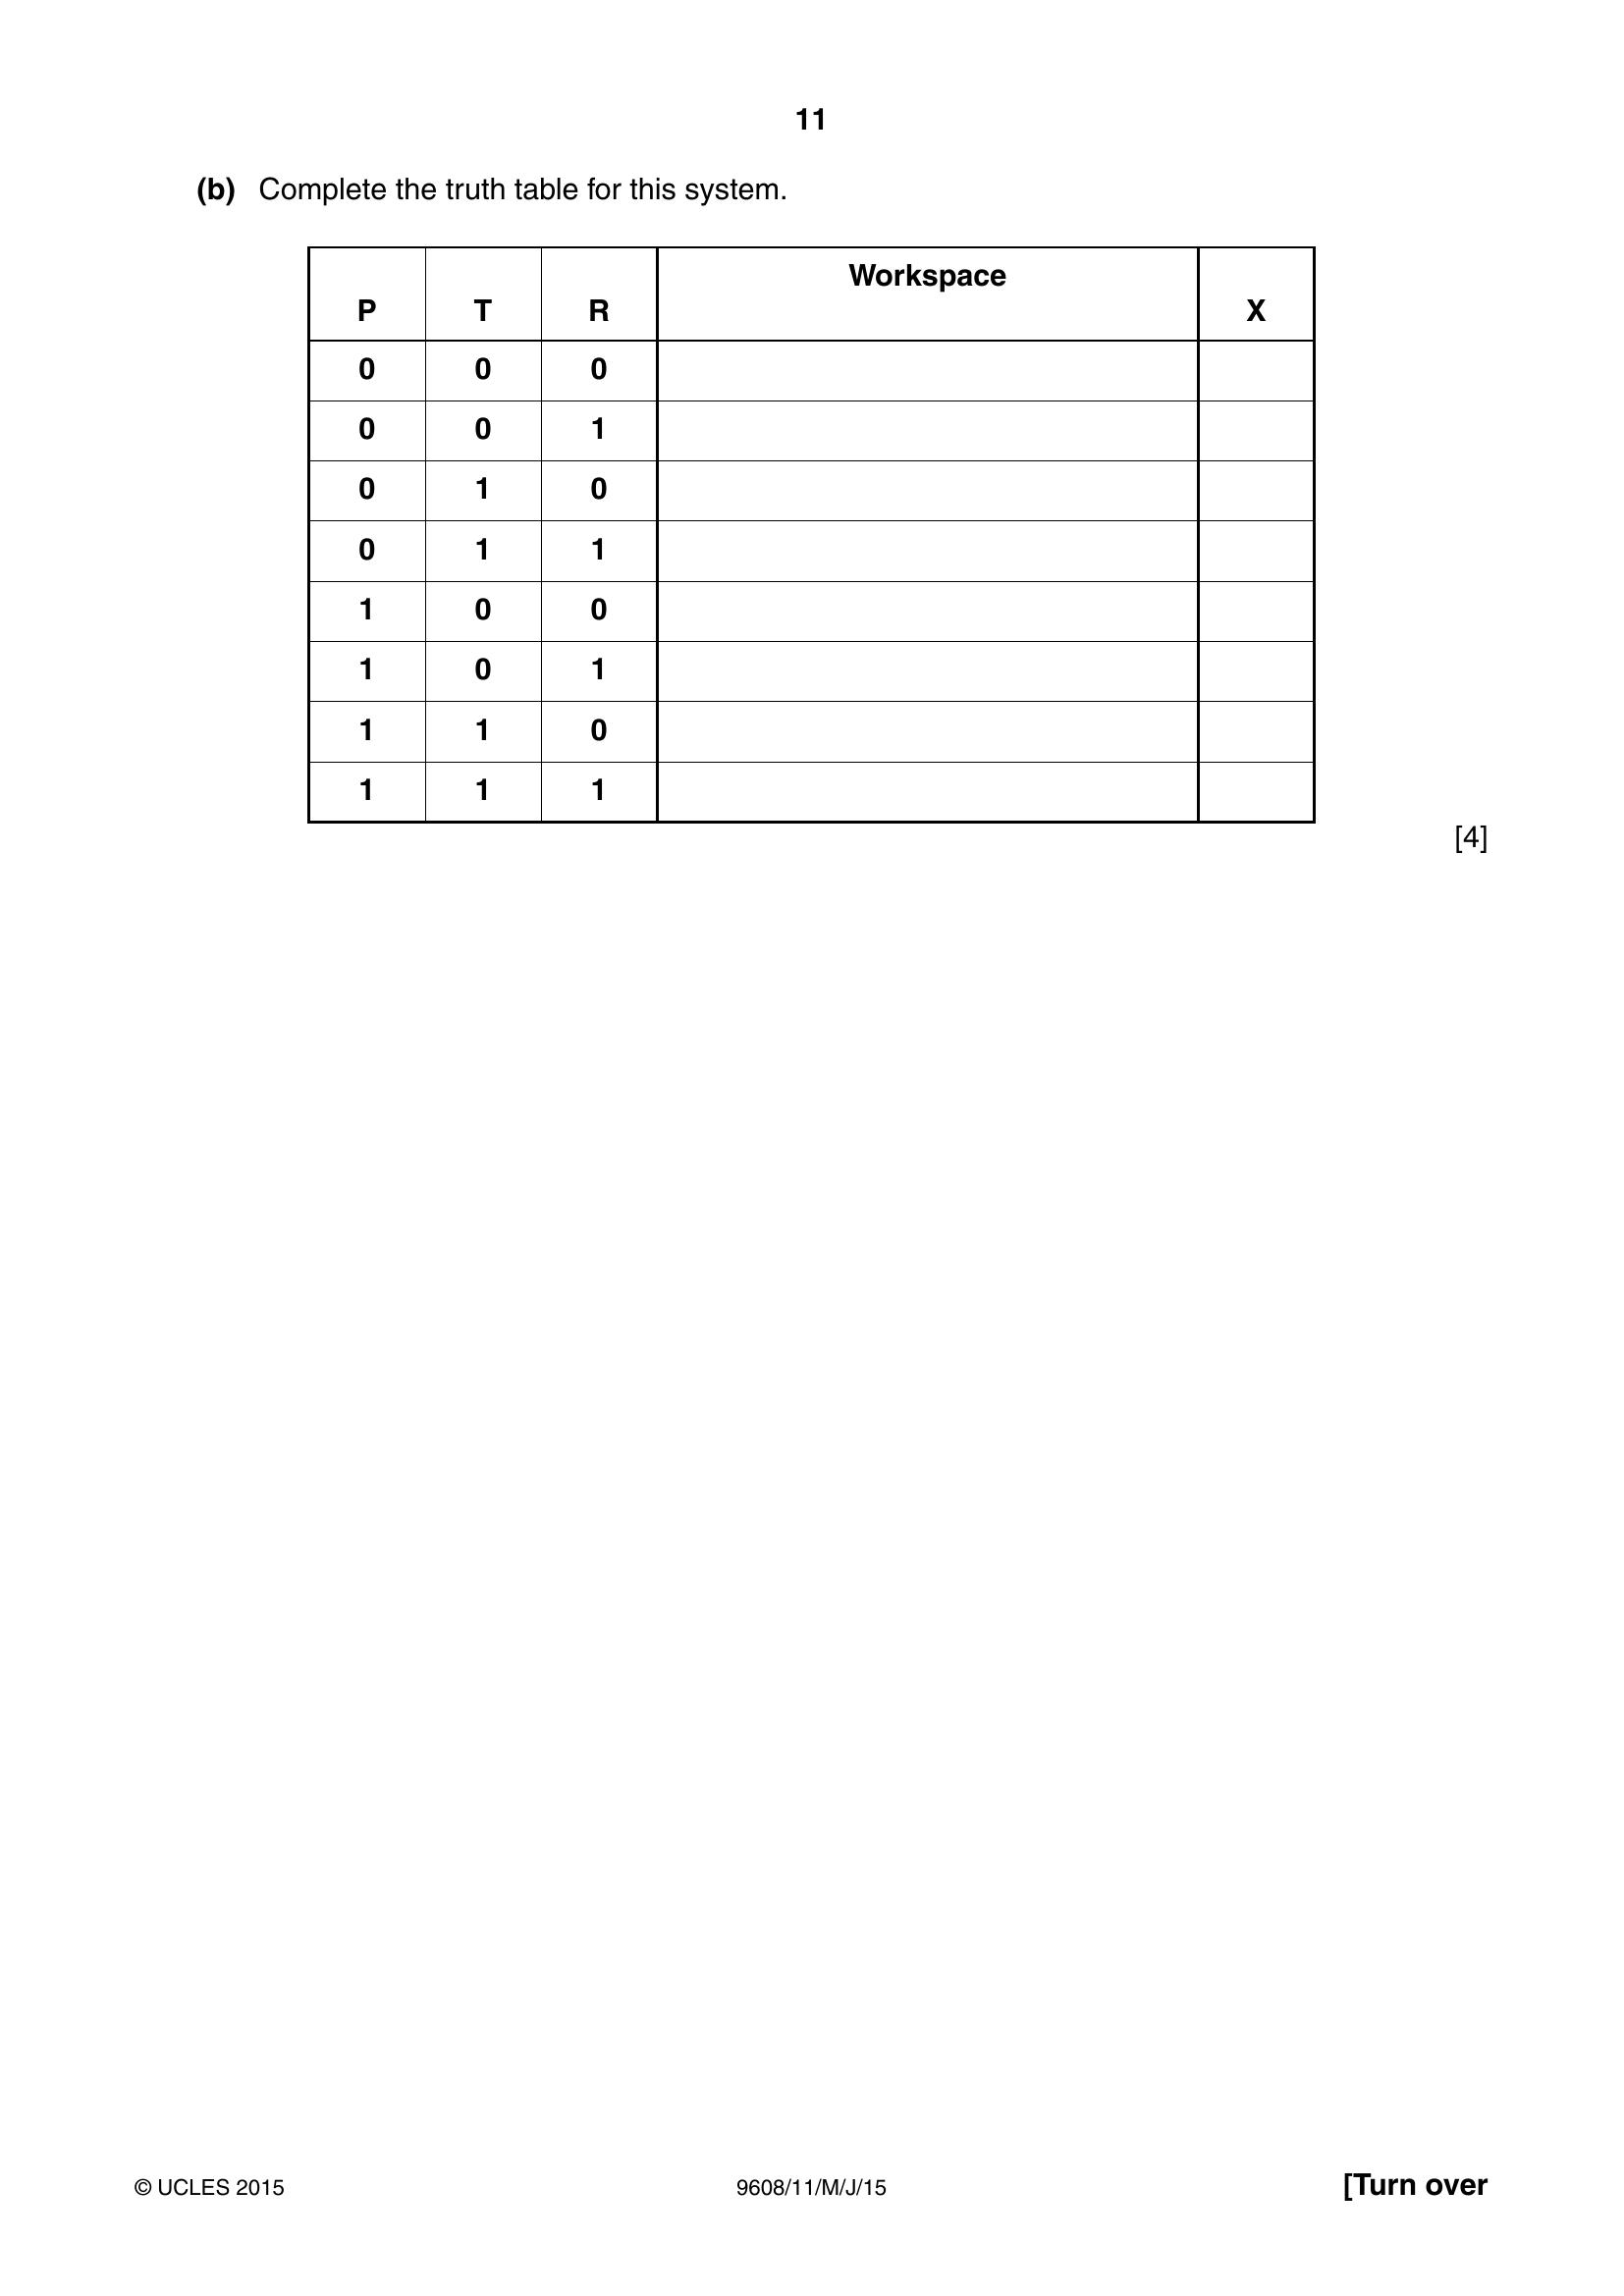continued question: (12, 148, 1624, 1059)
